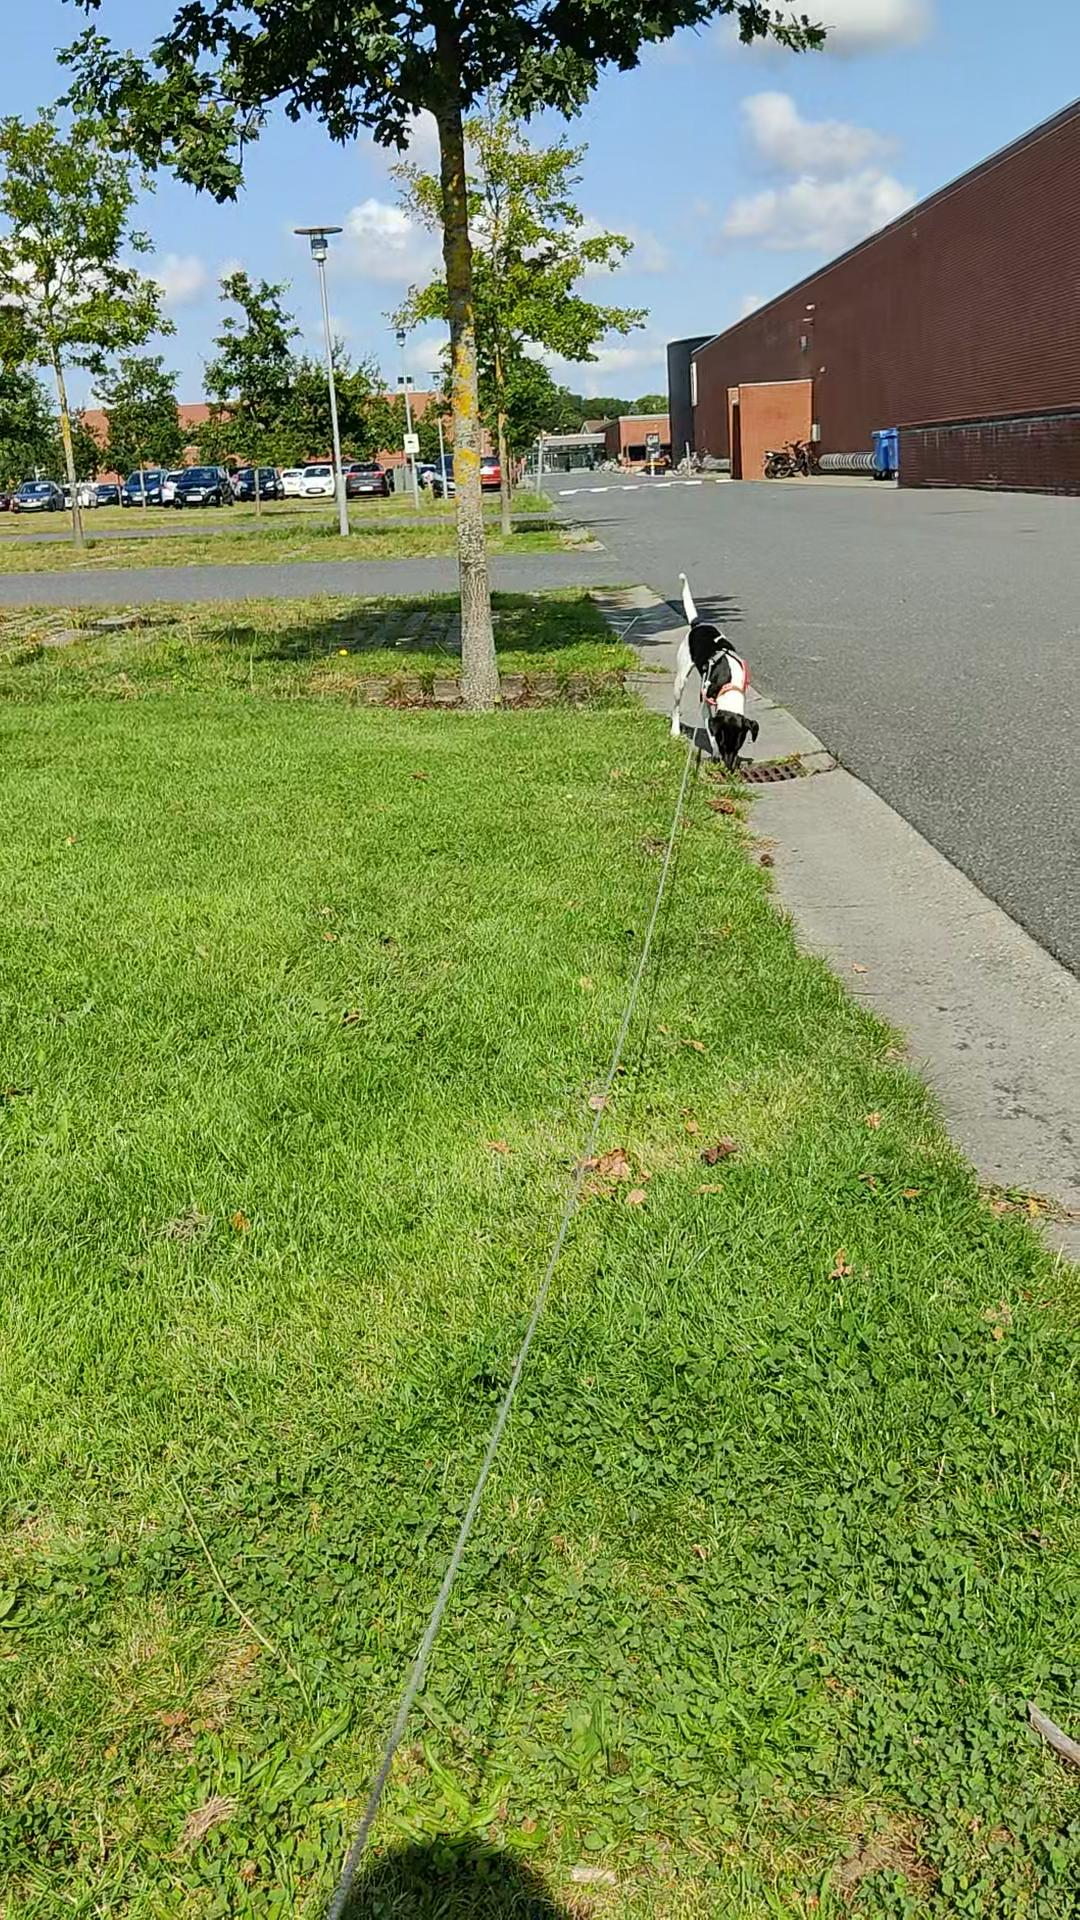Dog: (663, 568, 761, 775)
